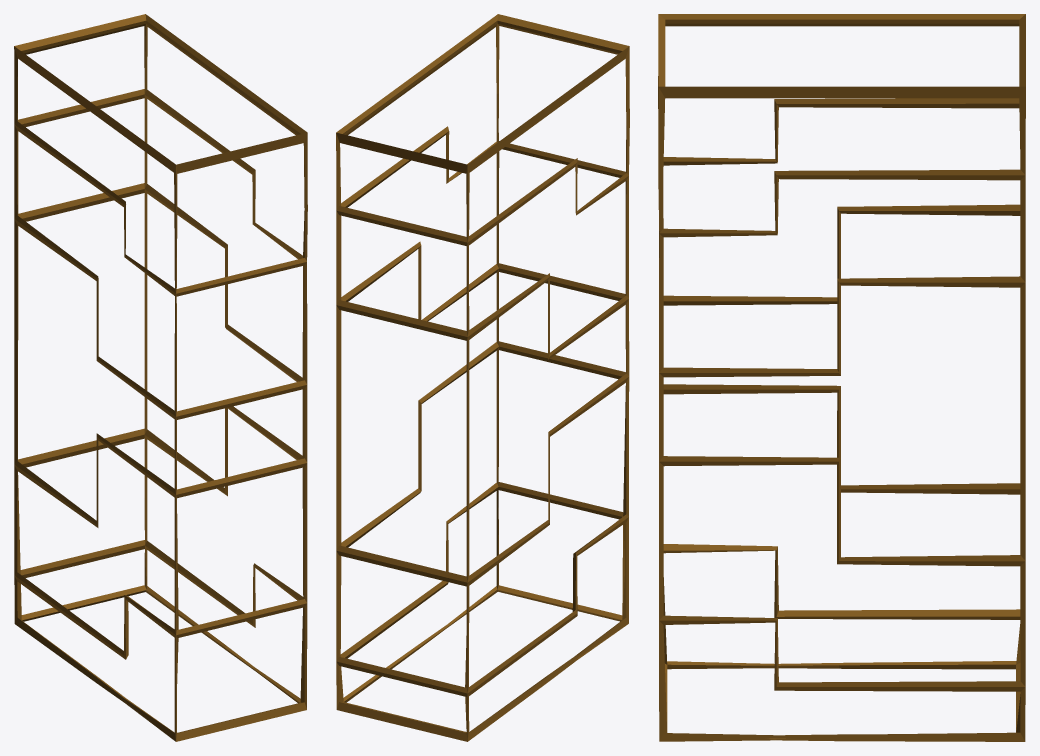
Rendered from FancyBookCaseA.obj.
3 views of the same model, side by side, from view 1: azimuth 30°, elevation 25°; view 2: azimuth 150°, elevation 25°; view 3: azimuth 270°, elevation 25° (orthographic). The views are drawn at different scales.
Parts seen in each view (by area): view 1: Case_Cube.001; view 2: Case_Cube.001; view 3: Case_Cube.001.
Part boxes in pixels (bbox=[...]): Case_Cube.001: bbox=[14, 14, 307, 741]; Case_Cube.001: bbox=[336, 14, 629, 741]; Case_Cube.001: bbox=[658, 14, 1025, 741].
Bounding box in the file's own units: 1.32 × 5.53 × 2.81.
